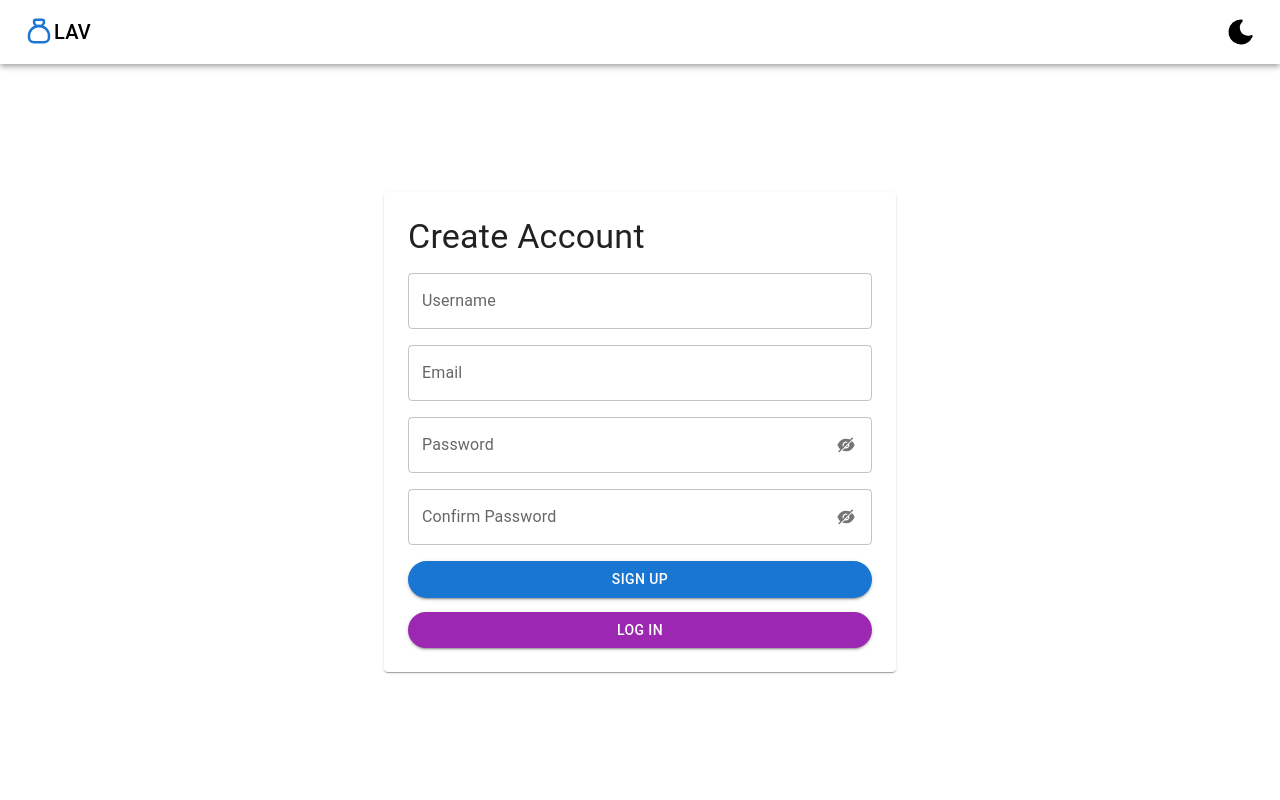
Signup Page › Errors will show when inputting incorrect info into email field
Step 1. Type "email@email" into the field labelled "Email" → (640, 374), box [408, 346, 872, 402]
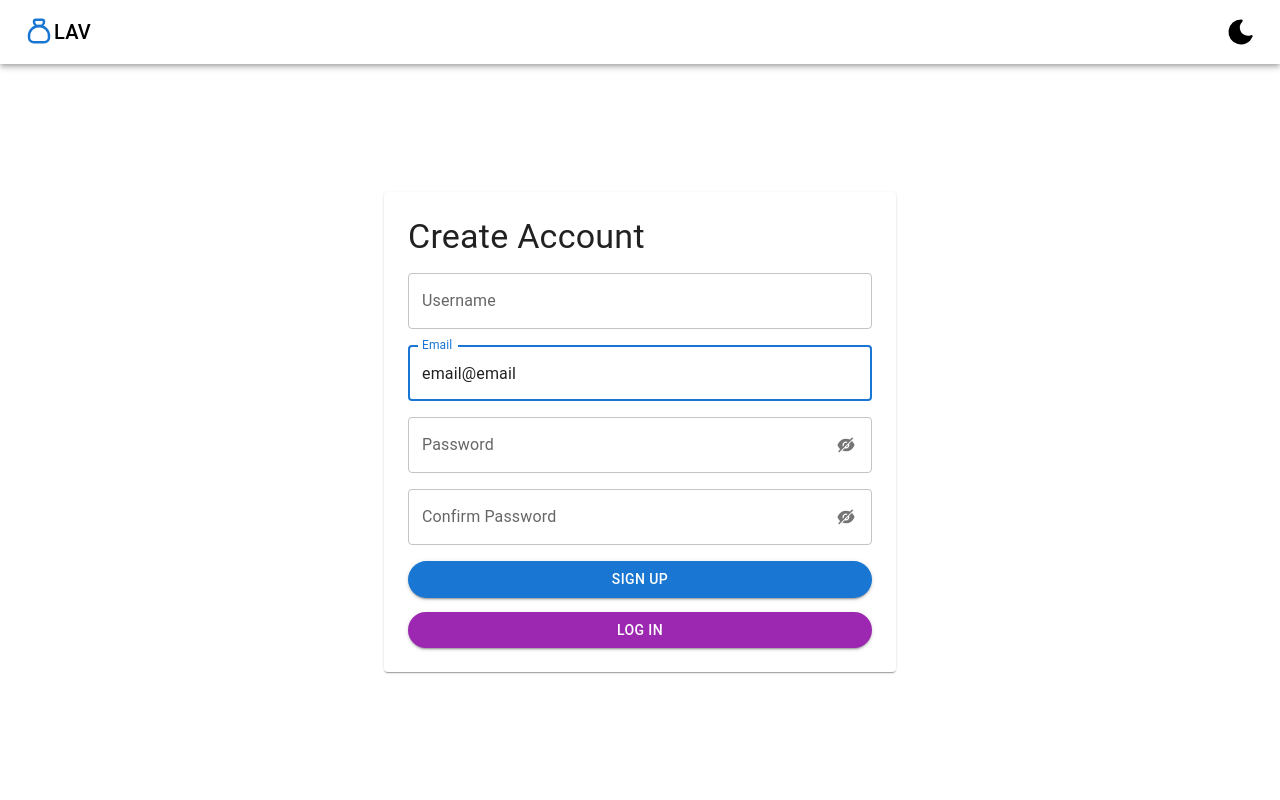
Step 2. Click the button "Sign Up" → (640, 580), box [408, 562, 872, 598]
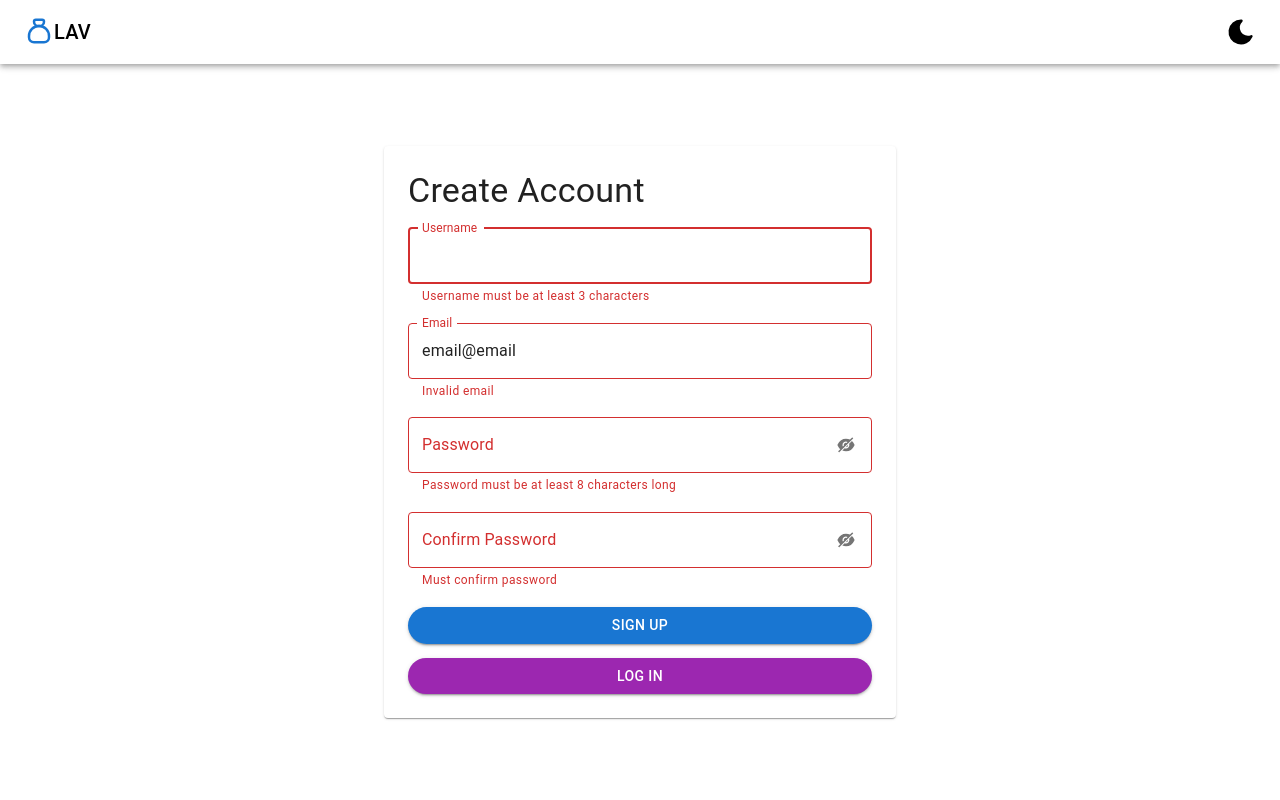
Expected: the text "Invalid email" is shown, [422, 384, 494, 398]
